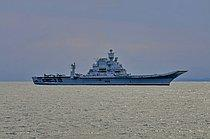MIL_Ship: (31, 47, 189, 85)
